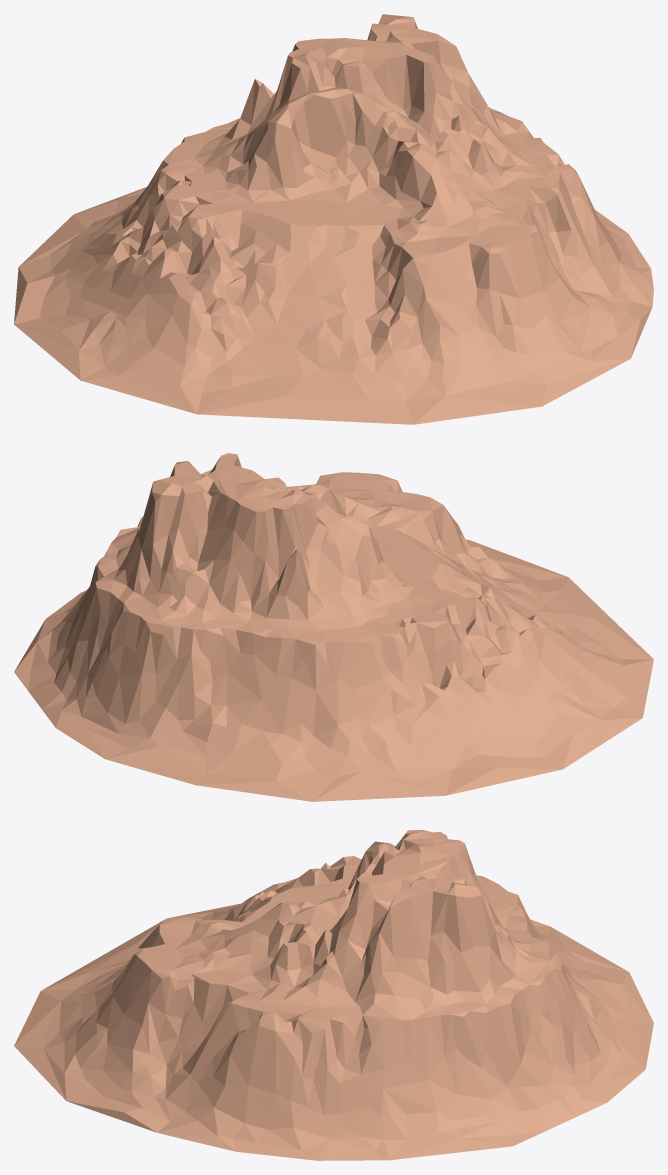
Rendered from MT_Mountain_L_b_27_LOD.fbx.
3 views of the same model, one above another, from view 1: azimuth 30°, elevation 25°; view 2: azimuth 150°, elevation 25°; view 3: azimuth 270°, elevation 25° (orthographic). The views are drawn at different scales.
Visible parts, largest first — view 1: MT_Mountain_L_b_27_LOD0; view 2: MT_Mountain_L_b_27_LOD0; view 3: MT_Mountain_L_b_27_LOD0.
Part boxes in pixels (box(x1,y1,x2,y2)): MT_Mountain_L_b_27_LOD0: box(14, 14, 653, 424); MT_Mountain_L_b_27_LOD0: box(14, 453, 653, 801); MT_Mountain_L_b_27_LOD0: box(14, 830, 653, 1160).
Size of what is drawn, in the model's own units: 8694 by 3042 by 8770.
